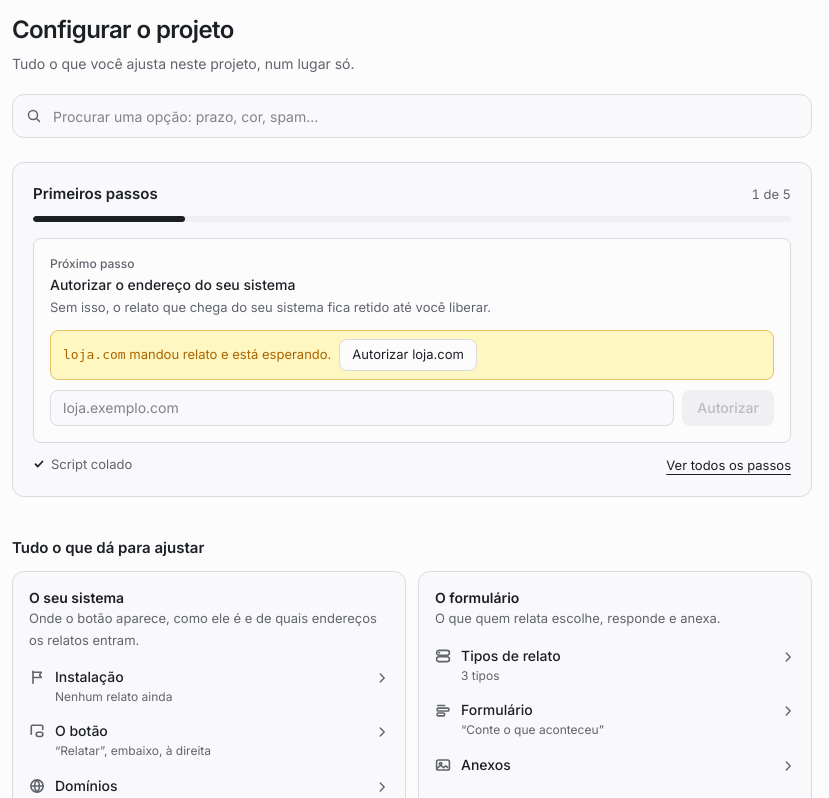
Test case: Configurar o projeto — os primeiros passos › o domínio que mandou relato aparece pronto no próximo passo, e autorizar relê a página
This screenshot has width=829, height=798.
Expected: the text "1 de 5" is shown, [752,185,791,204]
Expected: the text "loja.com mandou relato e está esperando." is shown, [63,345,331,364]
Step 1. Click the button "Autorizar loja.com" → (408,355), box [339,339,477,371]
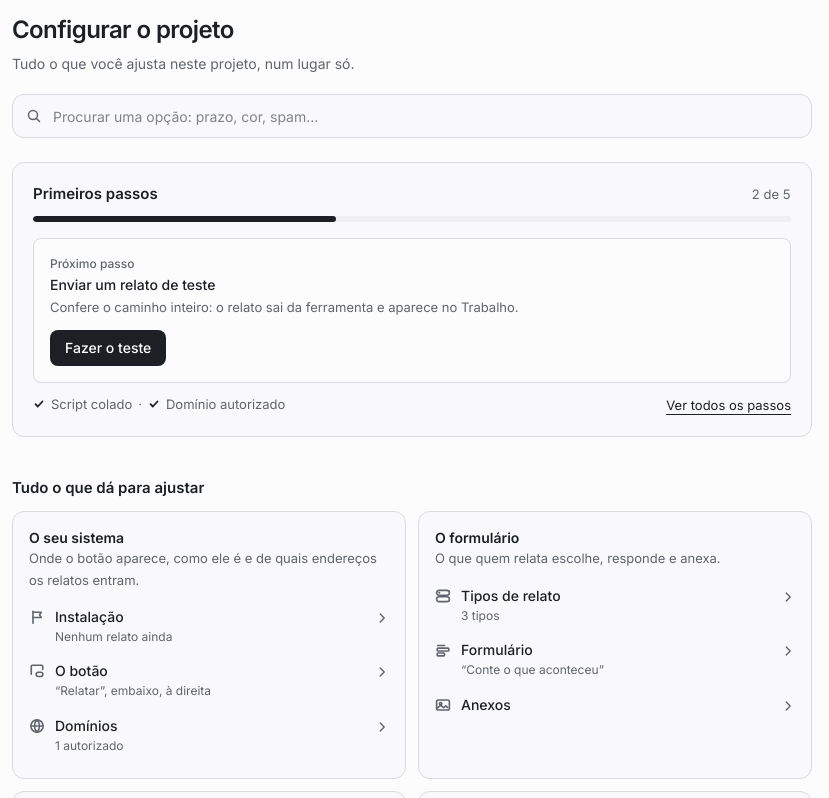
Expected: the text "2 de 5" is shown, [752,185,791,204]
Expected: the heading "Enviar um relato de teste" is shown, [50,276,215,292]
Expected: the text "está esperando" is gone
